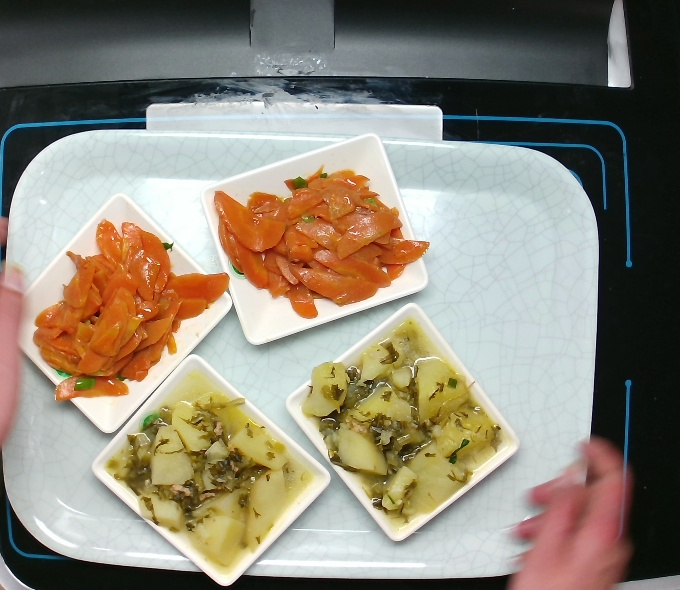wcq-HuLuoBo: (215, 159, 424, 327), (29, 219, 221, 394)
wcq-XueCaiTuDou: (303, 321, 499, 513), (120, 385, 308, 561)
